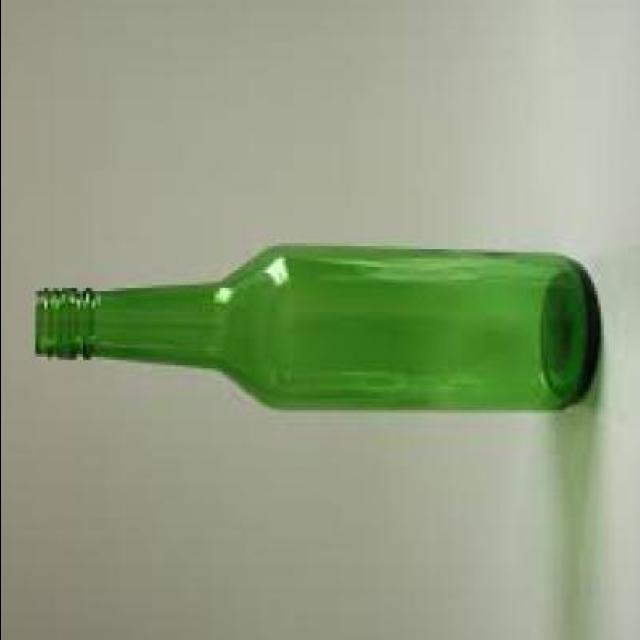kaca: (31, 242, 596, 408)
